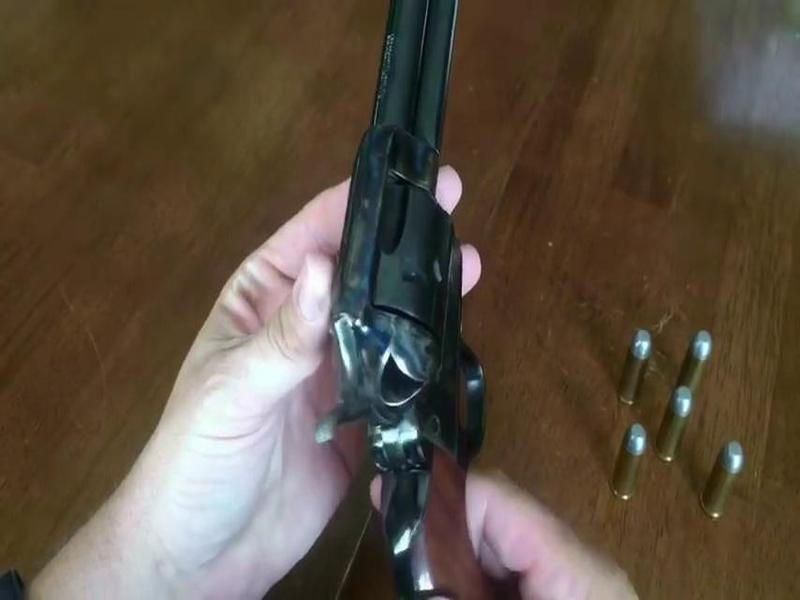Revolver: (322, 4, 490, 578)
